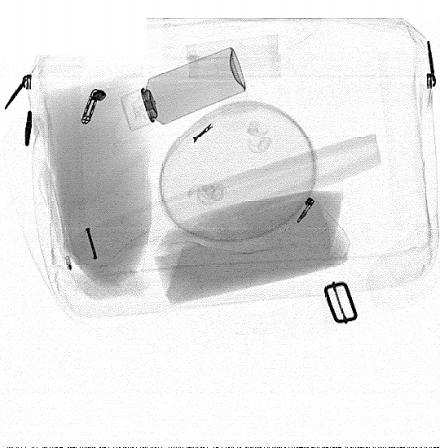Sprayer: (120, 46, 246, 131)
